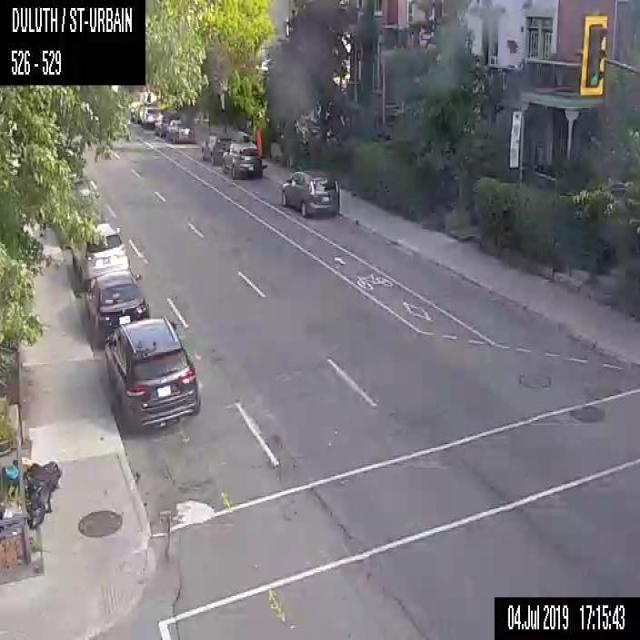vehicle: (102, 318, 200, 430), (85, 271, 150, 345), (70, 222, 130, 289), (279, 165, 340, 216), (221, 142, 262, 177), (201, 134, 235, 165), (166, 116, 192, 141), (154, 111, 176, 135), (142, 105, 161, 127)
